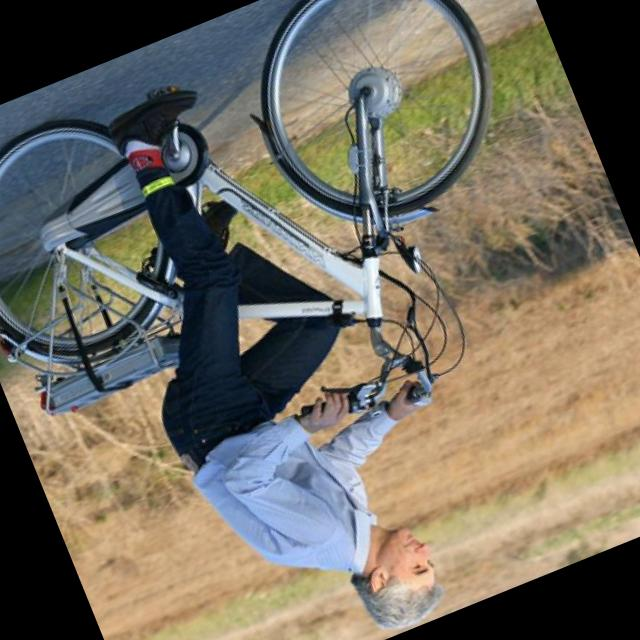bareface: (343, 522, 454, 636)
